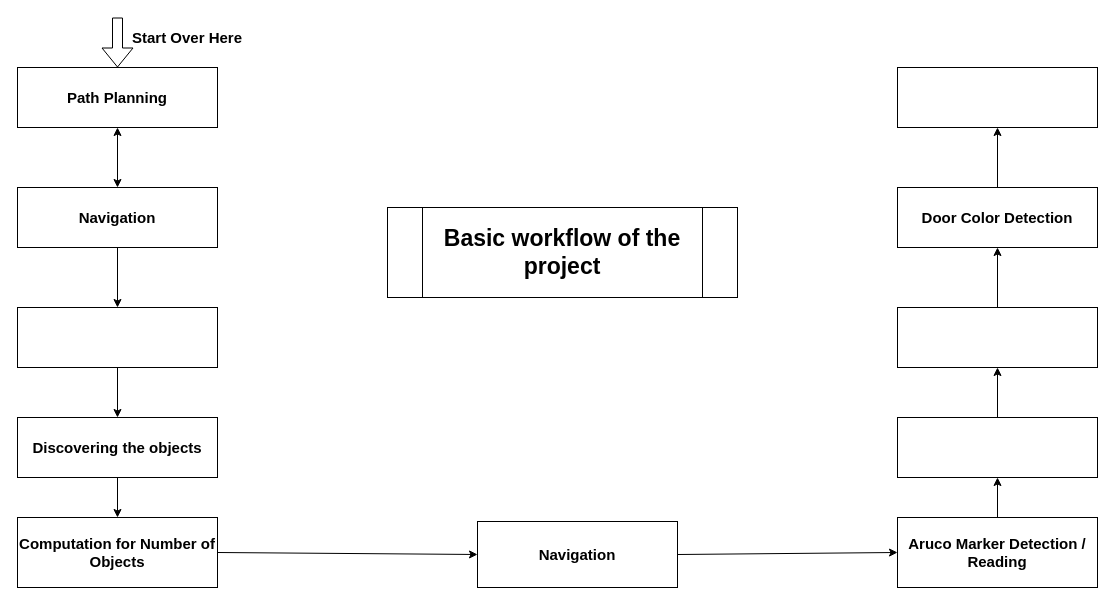
Some shapes in this 1115 by 605 pixel diagram are drawn without their labels. Here are the shapes that lost their labels. From the top down, the centre of each, then its label:
the point at 997,97: Final Navigation
the point at 117,337: Object detection
the point at 997,337: Color Detection of blocks
the point at 997,447: Computation for Aruco ID
